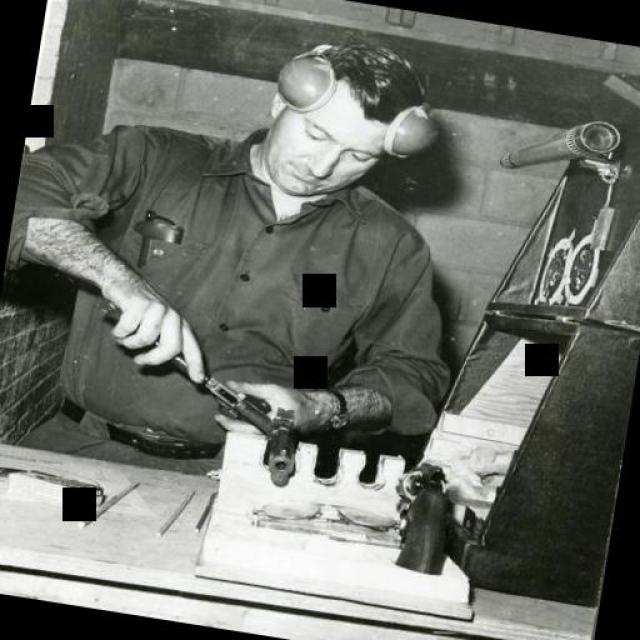gun: (89, 300, 276, 429), (379, 450, 466, 580), (250, 398, 310, 493)
